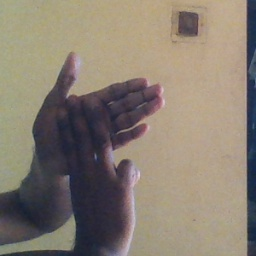M: (24, 50, 169, 210)
